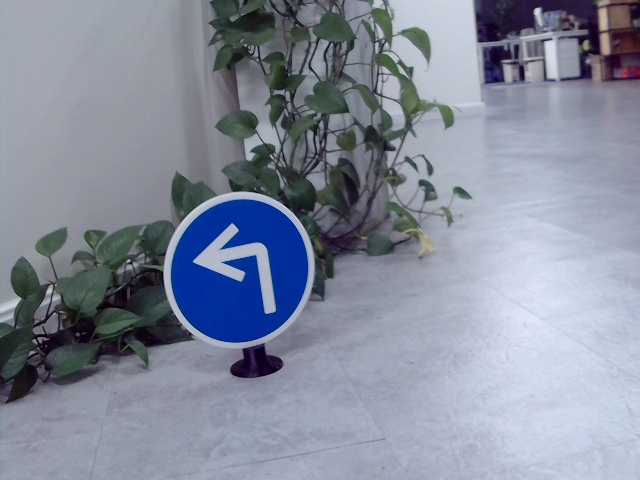turn_left: (195, 219, 286, 317)
